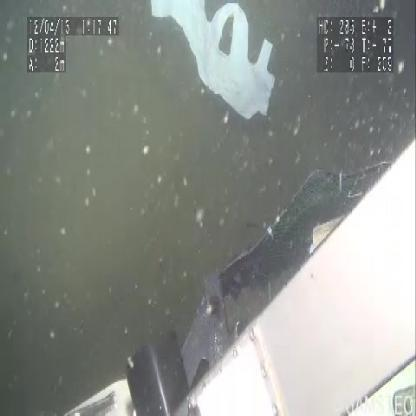Rác: (150, 0, 278, 119)
